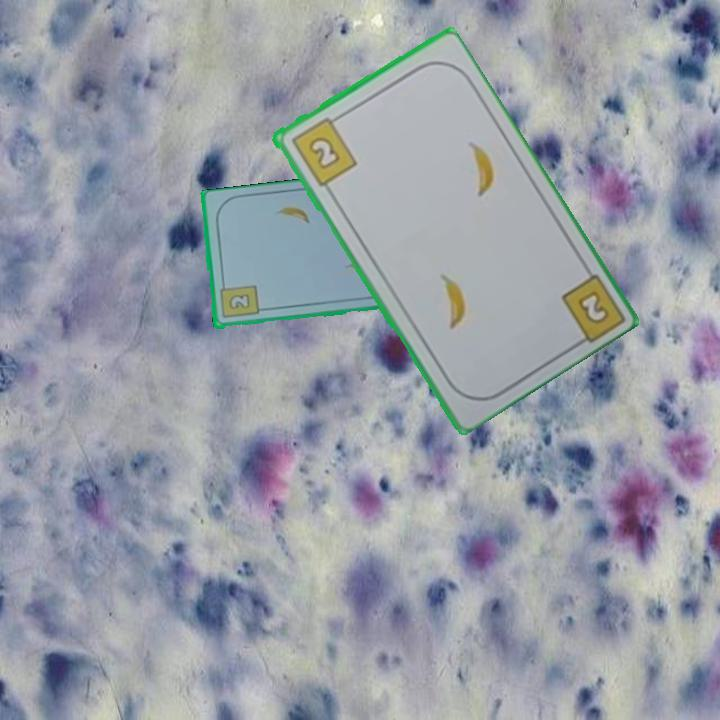2b: (287, 111, 360, 189), (216, 279, 261, 321), (573, 286, 612, 328)
